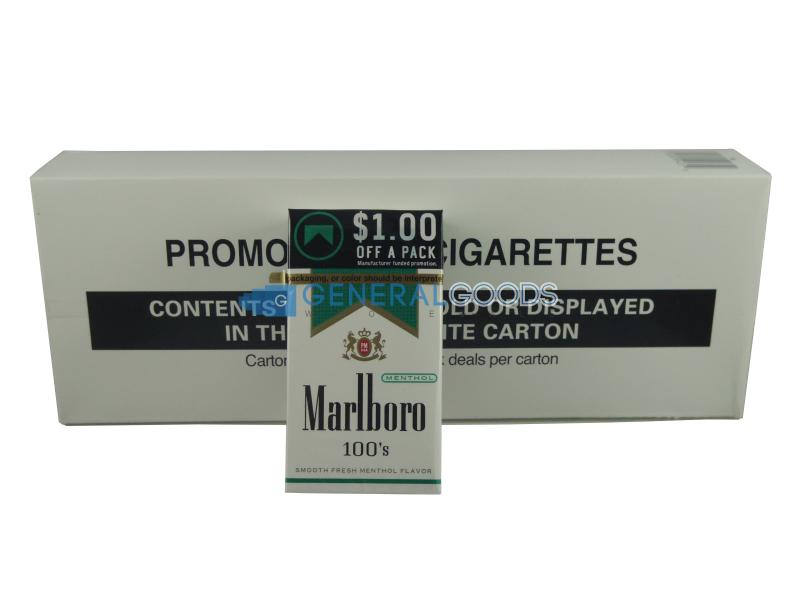marlboro_mentol: (281, 277, 443, 493)
